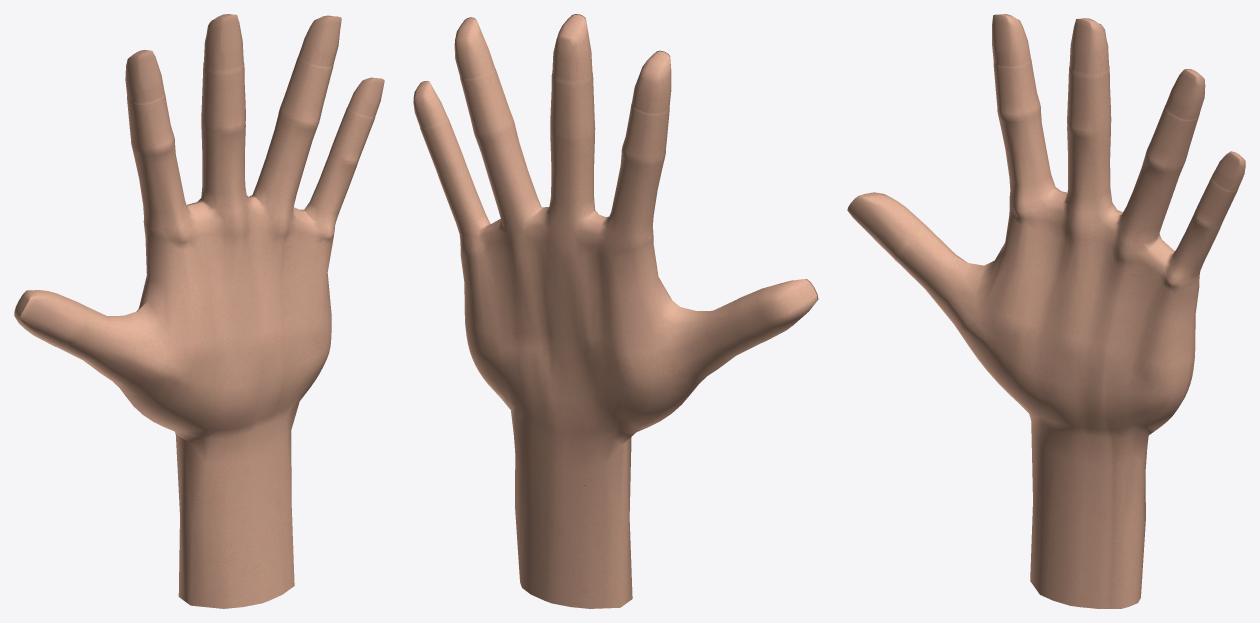
The model's file is Main.fbx.
3 views of the same model, side by side, from view 1: azimuth 30°, elevation 25°; view 2: azimuth 150°, elevation 25°; view 3: azimuth 330°, elevation 25° (orthographic).
Parts seen in each view (by area): view 1: main; view 2: main; view 3: main.
Part boxes in pixels (left/top/right/bottom): main: left=14, top=14, right=384, bottom=608; main: left=413, top=14, right=818, bottom=608; main: left=847, top=14, right=1245, bottom=608.
Size of the model in its own units: 21.59 by 31.06 by 4.22.
1 material, 1 textured.
